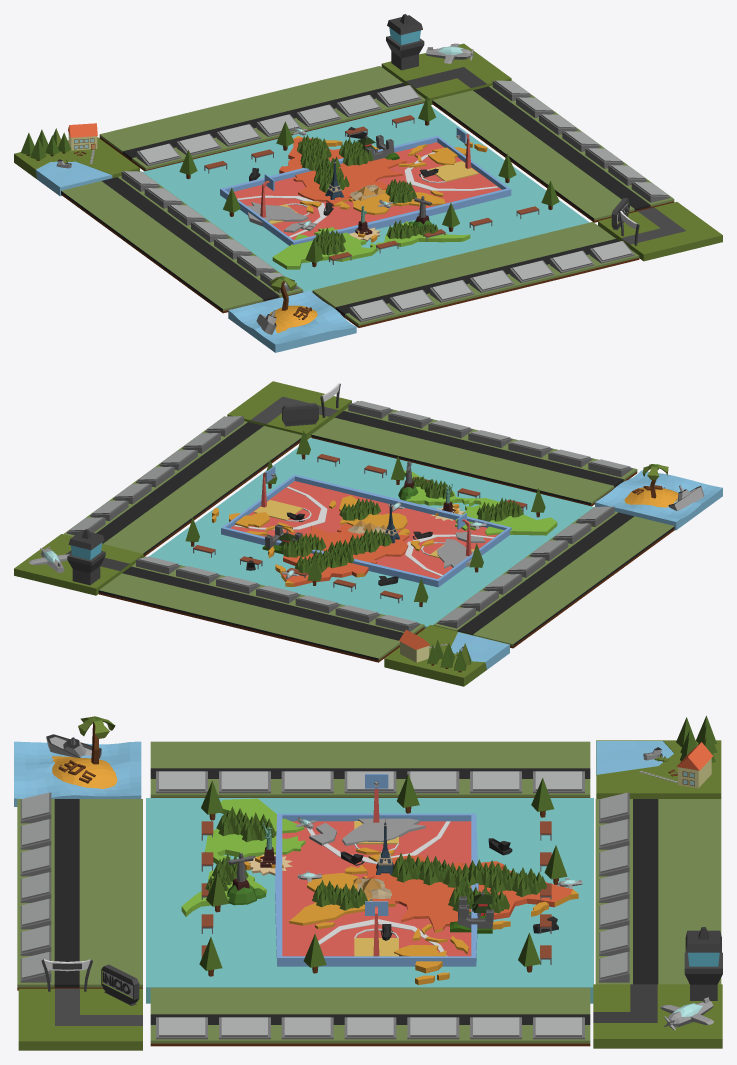
Rendered from PLACA MONTADA TESTE .fbx.
3 views of the same model, one above another, from view 1: azimuth 30°, elevation 25°; view 2: azimuth 150°, elevation 25°; view 3: azimuth 270°, elevation 25° (orthographic). The views are drawn at different scales.
Parts seen in each view (by area): view 1: Torus.005, plataforma, Torus.001, Cube.002, plataforma.001, plataforma.002, plataforma.003, Plane.002, ferias.004, ferias, Plane.001, Cube.005; view 2: Torus.005, Torus.001, plataforma.001, plataforma, Cube.002, plataforma.003, plataforma.002, ferias, Plane.002, ferias.004, Plane.001, Cube.005; view 3: Torus.005, plataforma.002, Torus.001, plataforma.003, Cube.002, plataforma, plataforma.001, Plane.002, Plane.001, ferias.004, ferias, Cube.005.
Boxes of the visible parts, x1=… form: Torus.005: x1=195, y1=129, x2=589, y2=292; plataforma: x1=312, y1=222, x2=639, y2=327; Torus.001: x1=143, y1=103, x2=535, y2=292; Cube.002: x1=179, y1=96, x2=559, y2=267; plataforma.001: x1=99, y1=66, x2=425, y2=171; plataforma.002: x1=432, y1=80, x2=674, y2=222; plataforma.003: x1=61, y1=171, x2=302, y2=313; Plane.002: x1=381, y1=14, x2=511, y2=104; ferias.004: x1=228, y1=276, x2=356, y2=352; ferias: x1=14, y1=123, x2=139, y2=196; Plane.001: x1=598, y1=198, x2=722, y2=261; Cube.005: x1=297, y1=135, x2=438, y2=253; Torus.005: x1=215, y1=438, x2=593, y2=628; Torus.001: x1=149, y1=463, x2=504, y2=626; plataforma.001: x1=98, y1=556, x2=424, y2=662; plataforma: x1=311, y1=401, x2=637, y2=506; Cube.002: x1=185, y1=430, x2=545, y2=606; plataforma.003: x1=433, y1=506, x2=674, y2=648; plataforma.002: x1=63, y1=416, x2=301, y2=556; ferias: x1=384, y1=625, x2=509, y2=686; Plane.002: x1=14, y1=529, x2=143, y2=595; ferias.004: x1=595, y1=464, x2=722, y2=530; Plane.001: x1=227, y1=381, x2=351, y2=439; Cube.005: x1=280, y1=483, x2=512, y2=574; Torus.005: x1=146, y1=798, x2=593, y2=1003; plataforma.002: x1=150, y1=987, x2=590, y2=1046; Torus.001: x1=146, y1=798, x2=593, y2=1003; plataforma.003: x1=150, y1=741, x2=590, y2=797; Cube.002: x1=199, y1=774, x2=567, y2=976; plataforma: x1=17, y1=792, x2=142, y2=990; plataforma.001: x1=595, y1=792, x2=721, y2=984; Plane.002: x1=593, y1=927, x2=722, y2=1048; Plane.001: x1=18, y1=959, x2=142, y2=1050; ferias.004: x1=14, y1=716, x2=141, y2=806; ferias: x1=596, y1=715, x2=721, y2=798; Cube.005: x1=207, y1=807, x2=546, y2=915.
Size of the model in its own units: 2443 by 339 by 2446.
